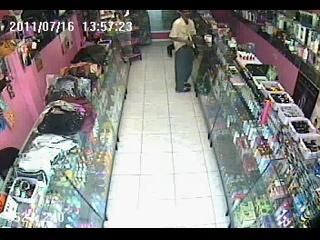Normal: (169, 11, 197, 94)
